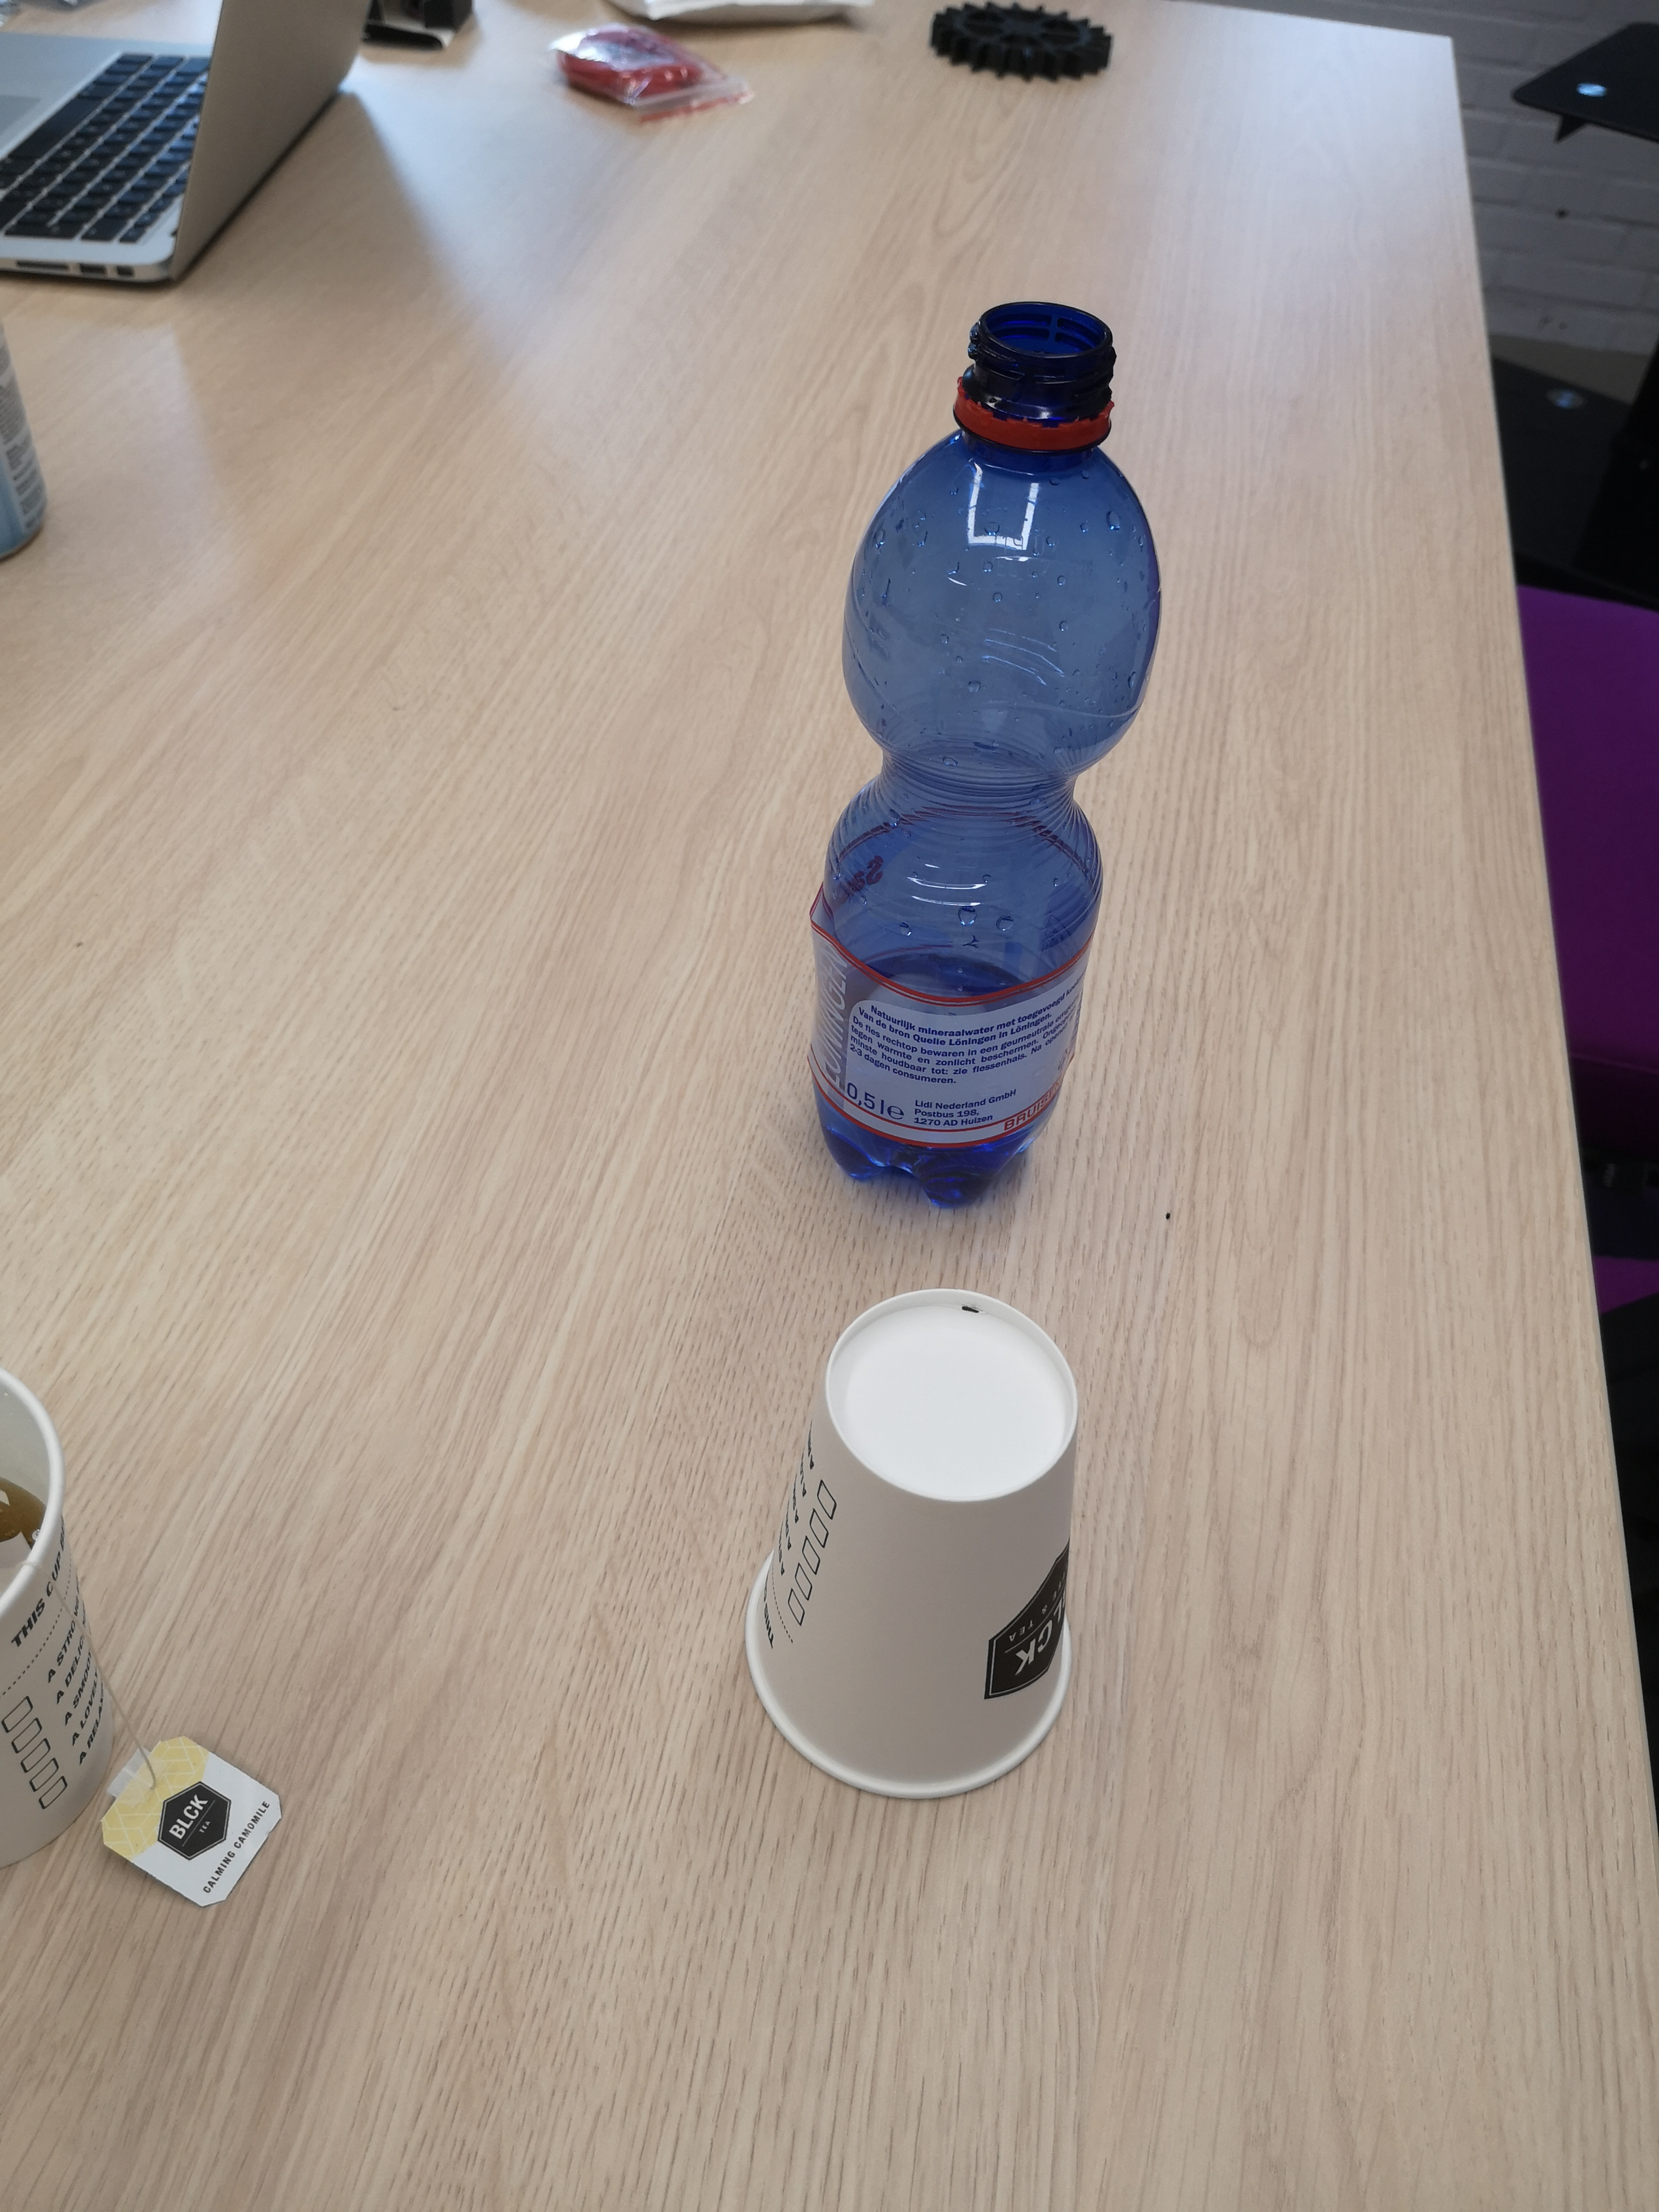cup: (711, 1259, 1152, 1831)
plastic_bottle: (798, 277, 1187, 1233)
